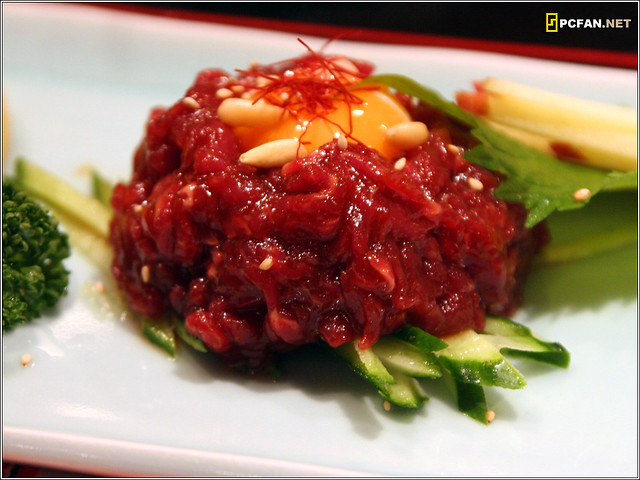ground_beef: (140, 144, 492, 328)
